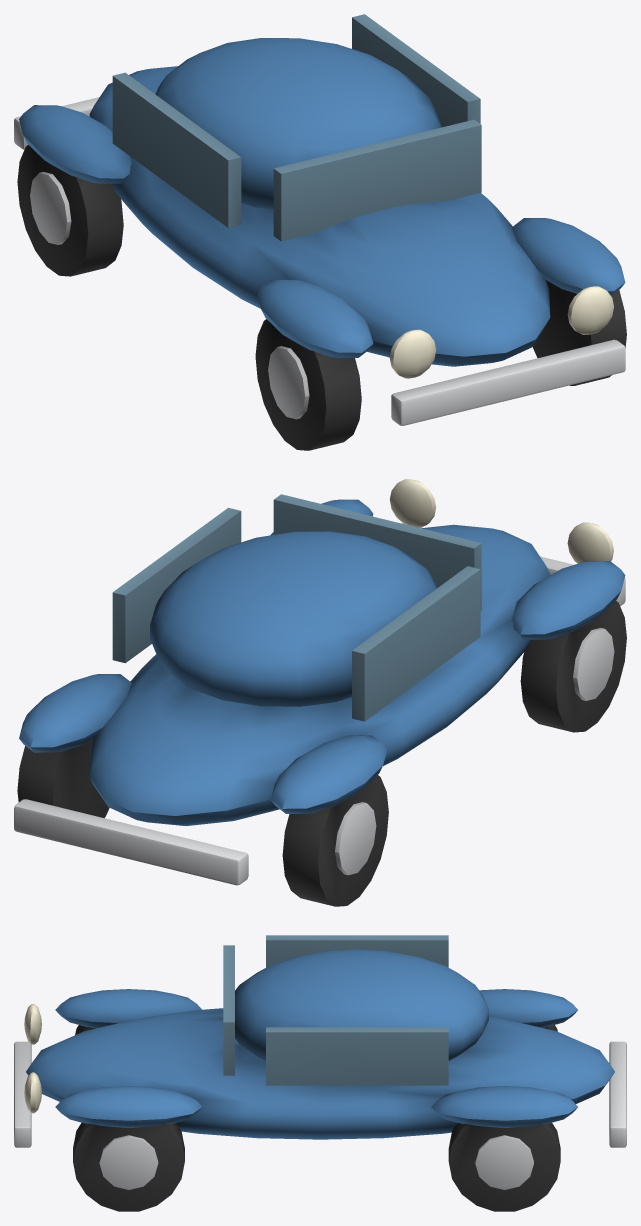
The model's file is car_blue.glb.
The picture shows the model from 3 angles, top to bottom: view 1: azimuth 30°, elevation 25°; view 2: azimuth 150°, elevation 25°; view 3: azimuth 270°, elevation 25°; orthographic projection. The views are drawn at different scales.
Visible parts, largest first — view 1: boat_carblue, boat_window, boat_tyre, boat_chrome, boat_lampglass; view 2: boat_carblue, boat_window, boat_tyre, boat_chrome, boat_lampglass; view 3: boat_carblue, boat_window, boat_tyre, boat_chrome, boat_lampglass.
Part boxes in pixels (x1=…): boat_carblue: x1=19, y1=38, x2=625, y2=366; boat_window: x1=112, y1=14, x2=481, y2=241; boat_tyre: x1=17, y1=145, x2=626, y2=450; boat_chrome: x1=14, y1=97, x2=625, y2=425; boat_lampglass: x1=389, y1=286, x2=613, y2=378; boat_carblue: x1=19, y1=499, x2=625, y2=825; boat_window: x1=112, y1=494, x2=481, y2=721; boat_tyre: x1=17, y1=601, x2=626, y2=906; boat_chrome: x1=14, y1=523, x2=625, y2=885; boat_lampglass: x1=389, y1=479, x2=613, y2=563; boat_carblue: x1=26, y1=949, x2=614, y2=1139; boat_window: x1=223, y1=935, x2=448, y2=1085; boat_tyre: x1=73, y1=1025, x2=560, y2=1211; boat_chrome: x1=14, y1=1041, x2=626, y2=1189; boat_lampglass: x1=24, y1=1004, x2=41, y2=1113.
Size of the model in its own units: 2 by 1.38 by 4.16.
